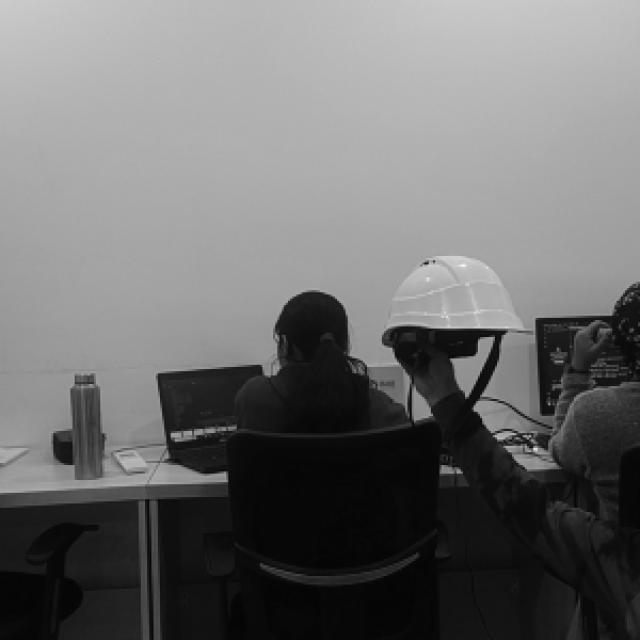safety_helmet: (381, 254, 534, 341)
